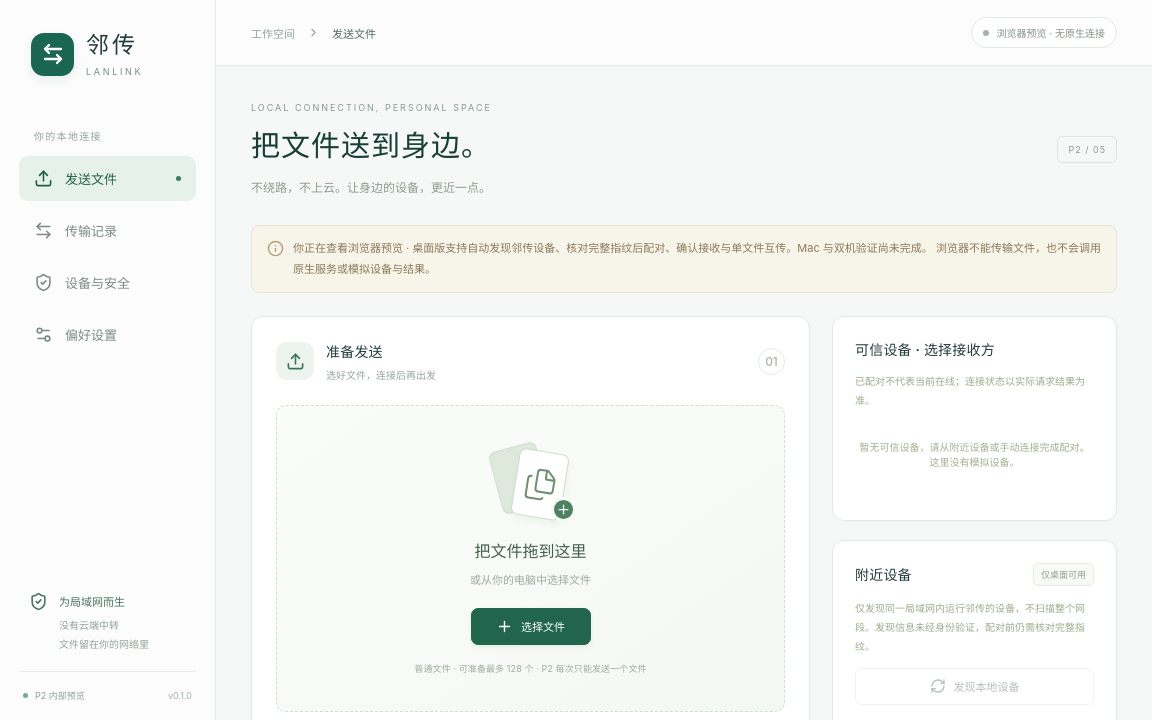
Test: browser preview › switches tabs without inventing transfer history
The width and height of the screenshot is (1152, 720).
Click the button "传输记录" at x=108, y=230, box [19, 208, 196, 253]
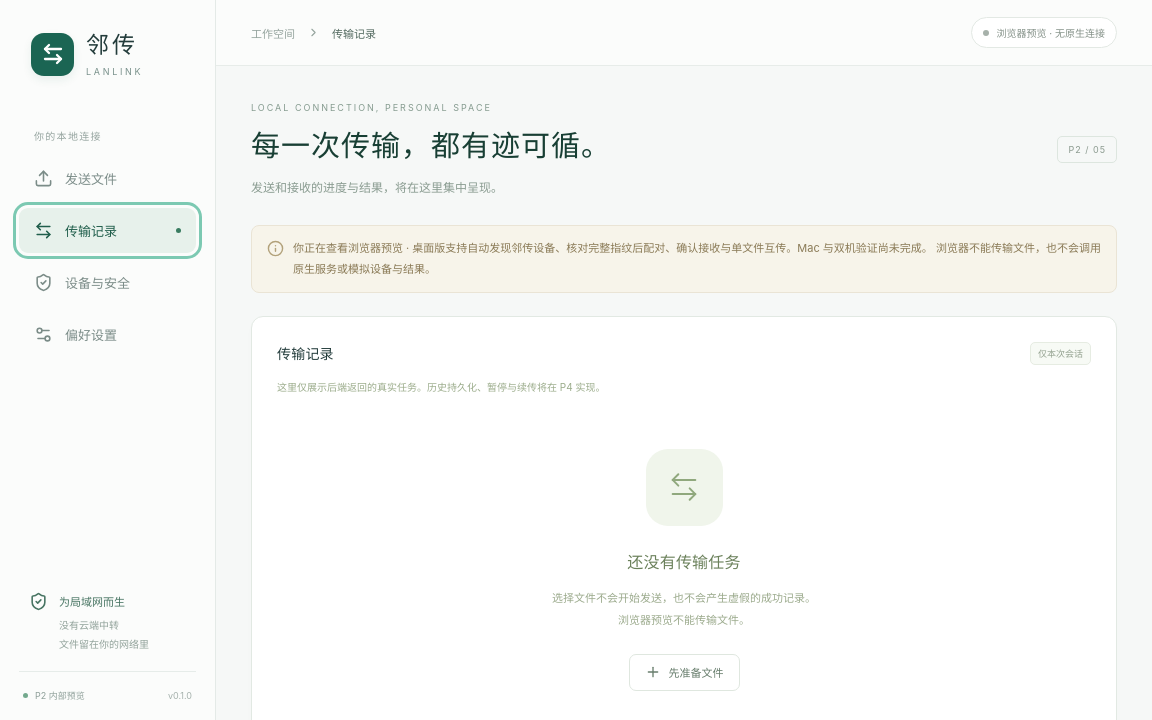
Expected: the heading "还没有传输任务" is shown, [627, 549, 741, 573]
Click the button "先准备文件" at x=684, y=672, box [628, 654, 740, 691]
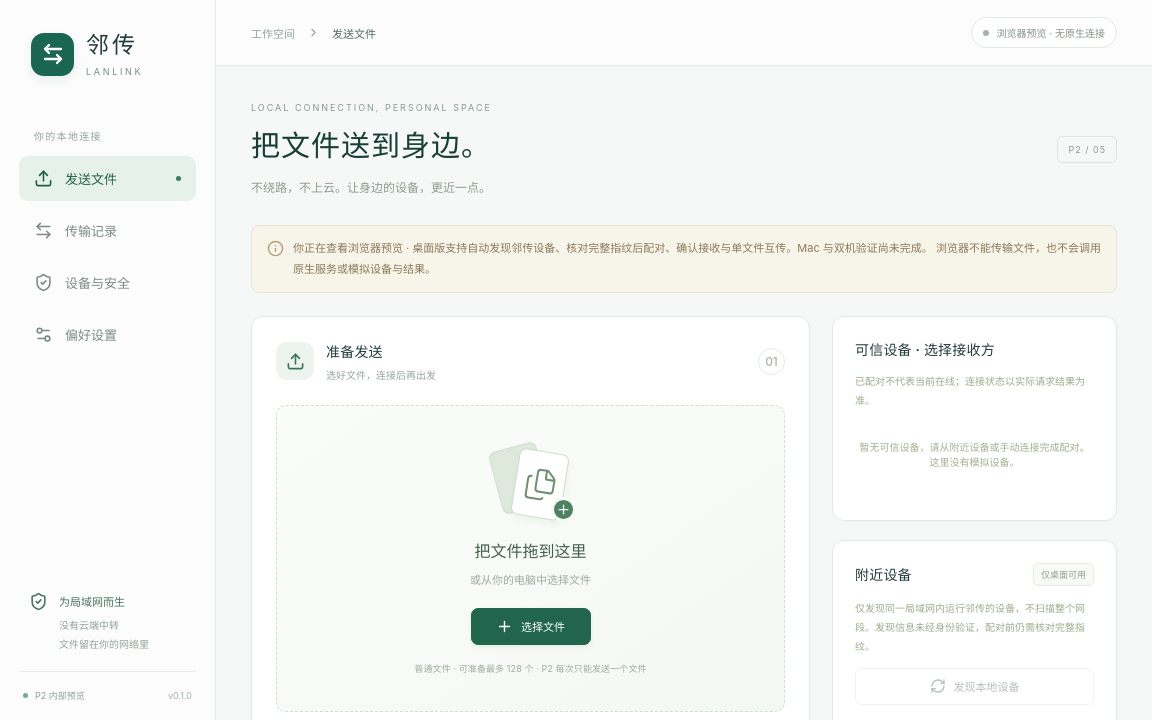
Expected: the heading "把文件拖到这里" is shown, [474, 538, 586, 562]
Click the button "设备与安全" at x=108, y=282, box [19, 260, 196, 305]
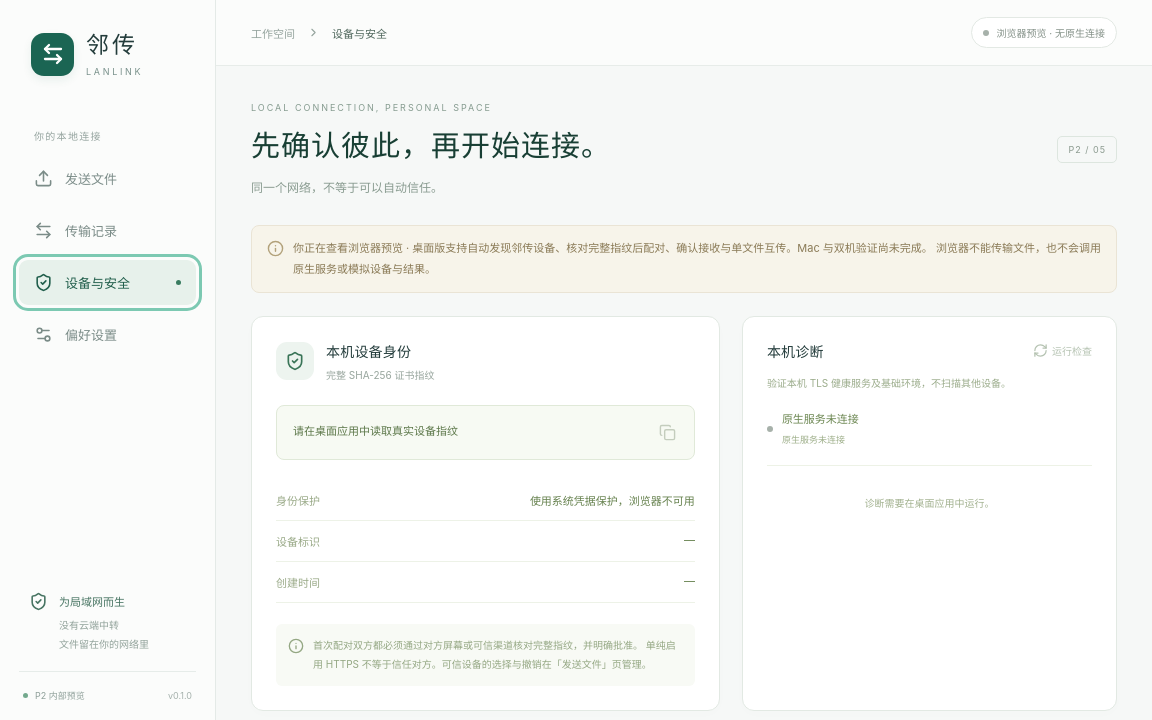
Expected: the button "运行检查" is disabled, [1033, 343, 1092, 358]
